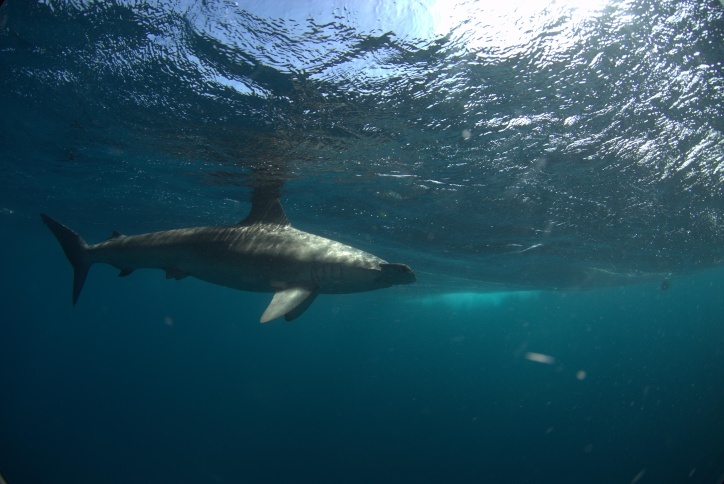Hammer: (36, 138, 512, 364)
